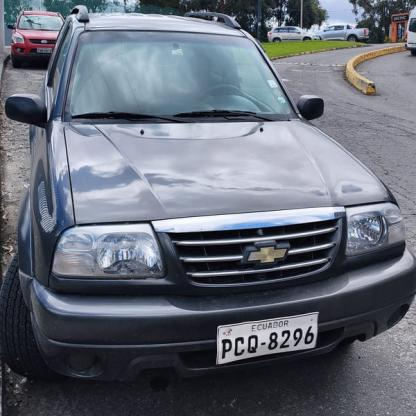Placa: (218, 312, 324, 363)
